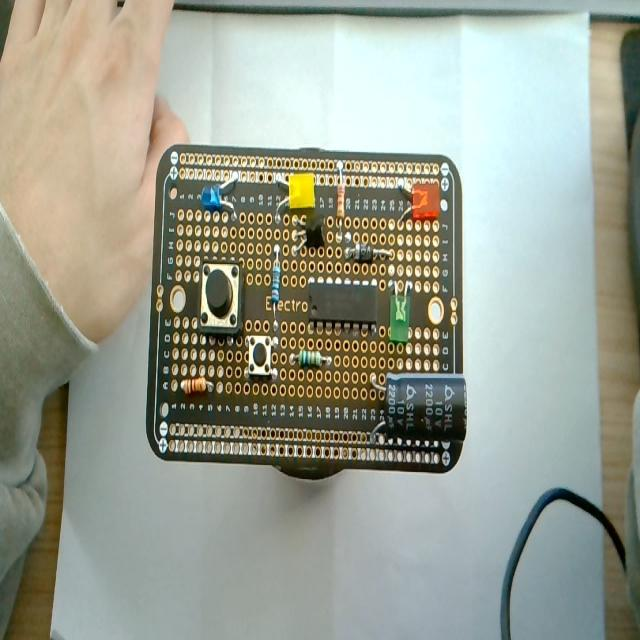Electrolytic capacitor: (363, 360, 475, 462)
IC: (306, 268, 380, 345)
diode: (345, 242, 393, 274)
led: (397, 175, 446, 234), (197, 162, 241, 218), (271, 168, 318, 214), (388, 276, 412, 352)
resistor: (286, 348, 344, 378), (270, 245, 286, 326), (173, 377, 219, 403), (338, 156, 350, 250)
switch: (194, 252, 240, 335), (243, 330, 281, 385)
transistor: (295, 214, 333, 262)
